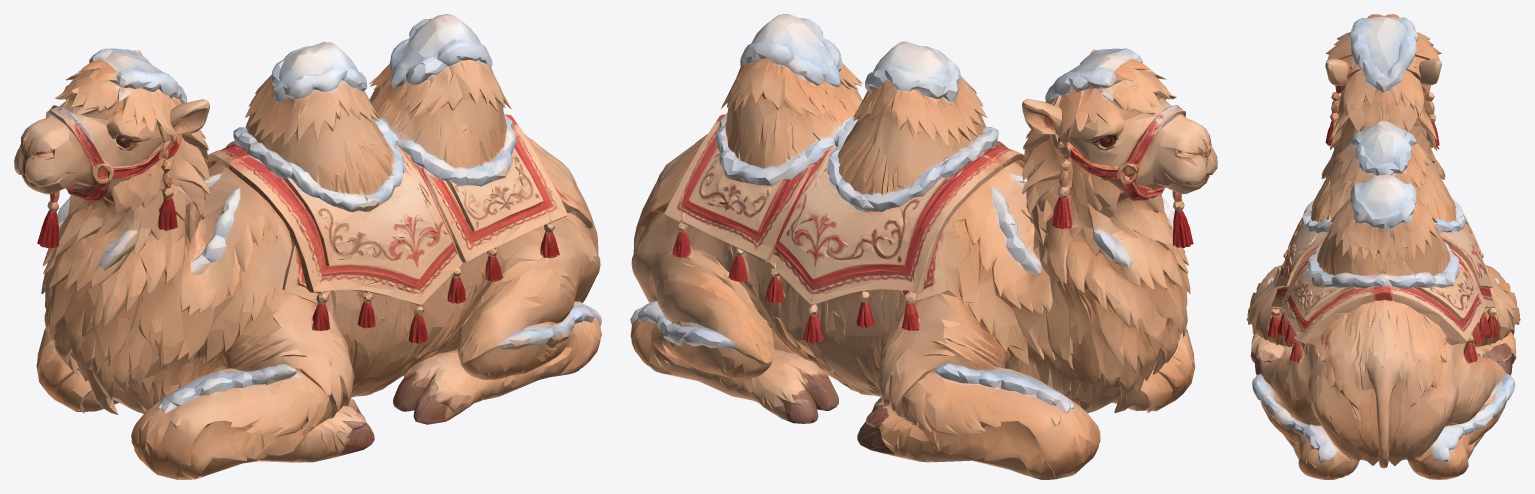
Rendered from camel.glb.
The picture shows the model from 3 angles, left to right: view 1: azimuth 30°, elevation 25°; view 2: azimuth 150°, elevation 25°; view 3: azimuth 270°, elevation 25°; orthographic projection. The views are drawn at different scales.
Size of the model in its own units: 1.9 by 1.19 by 0.9893.
Materials: 1 (1 with a texture image).
